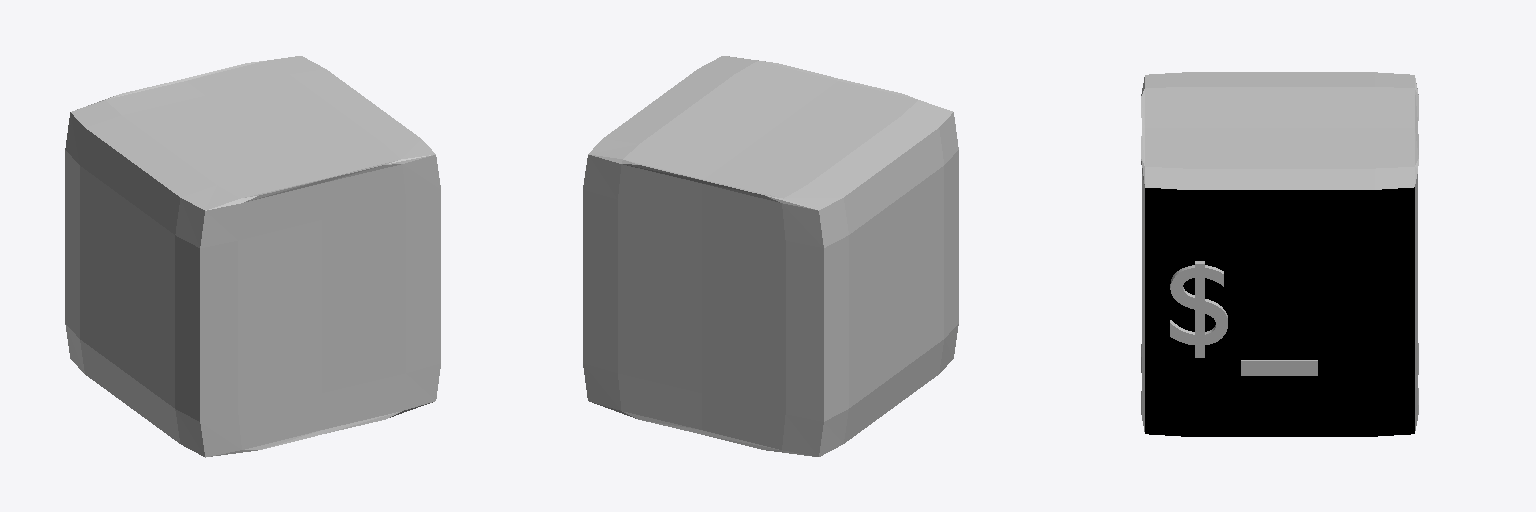
Rendered from bash.obj.
3 views of the same model, side by side, from view 1: azimuth 30°, elevation 25°; view 2: azimuth 150°, elevation 25°; view 3: azimuth 270°, elevation 25° (orthographic).
Parts seen in each view (by area): view 1: Cube_Cube.004; view 2: Cube_Cube.004; view 3: Cube.003_Cube.007, Cube_Cube.004, Text, Cube.002_Cube.006.
Boxes of the visible parts, <box> form: Cube_Cube.004: <box>65,56,440,457</box>; Cube_Cube.004: <box>583,56,958,456</box>; Cube.003_Cube.007: <box>1145,187,1414,436</box>; Cube_Cube.004: <box>1141,72,1418,431</box>; Text: <box>1170,261,1227,357</box>; Cube.002_Cube.006: <box>1241,360,1317,375</box>.
Size of the model in its own units: 0.688 by 0.6518 by 0.6434.